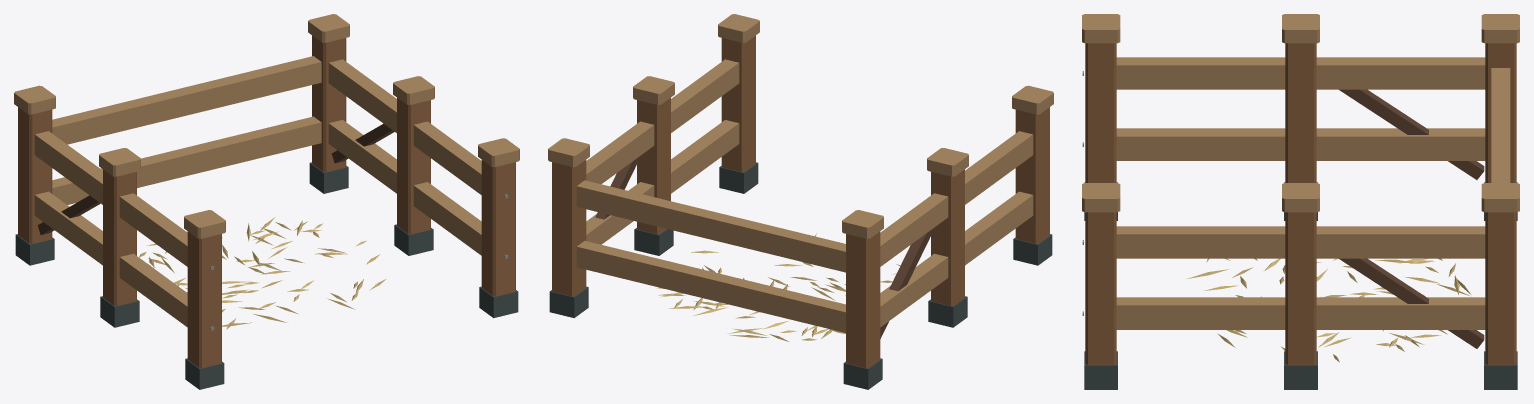
File: barn_stall.glb
3 renders of one model, left to right at view 1: azimuth 30°, elevation 25°; view 2: azimuth 150°, elevation 25°; view 3: azimuth 270°, elevation 25°, orthographic. The views are drawn at different scales.
Parts seen in each view (by area): view 1: geometry; view 2: geometry; view 3: geometry.
Boxes of the visible parts, x1,y1,x2,y2 form: geometry: [14, 14, 519, 389]; geometry: [548, 14, 1053, 389]; geometry: [1082, 14, 1519, 389].
Bounding box in the file's own units: 1.95 × 0.9425 × 1.95.
